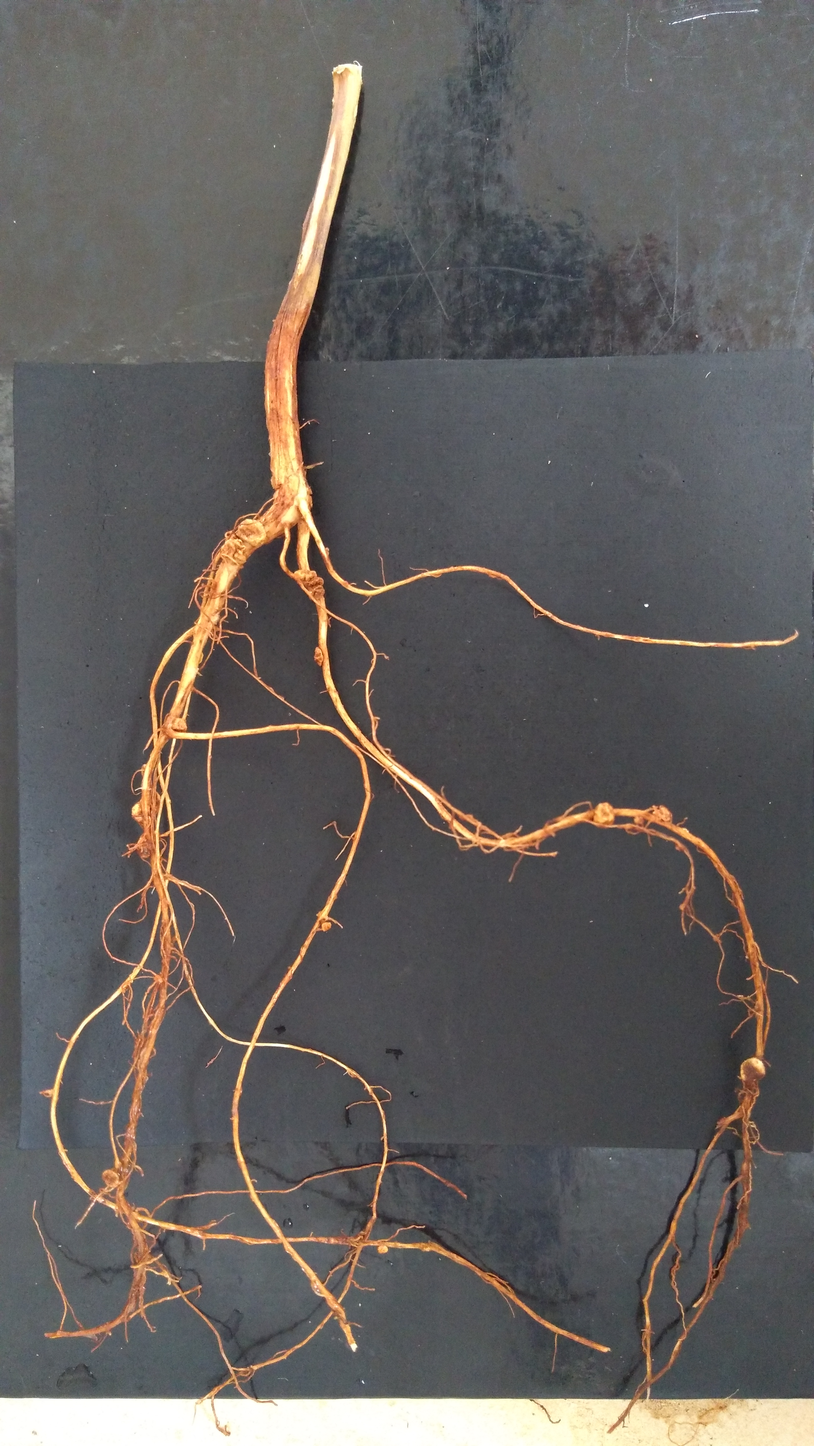nodule: (235, 518, 267, 546), (220, 538, 247, 565), (740, 1056, 766, 1082), (131, 801, 157, 826), (293, 479, 312, 508), (593, 802, 615, 825), (292, 569, 318, 588), (136, 832, 154, 859), (280, 505, 300, 528), (101, 1169, 119, 1188), (652, 805, 672, 822), (136, 1045, 149, 1071), (307, 584, 325, 601), (149, 790, 161, 814), (171, 718, 187, 734), (313, 646, 323, 667), (308, 576, 325, 587), (224, 530, 238, 543), (140, 764, 152, 777), (270, 475, 280, 490), (316, 910, 328, 922), (272, 490, 281, 505), (209, 613, 220, 624), (321, 921, 331, 932), (633, 815, 645, 824), (377, 1245, 388, 1254), (152, 975, 162, 984), (42, 1089, 52, 1098), (114, 1159, 122, 1169), (324, 547, 330, 557), (198, 652, 203, 664), (343, 581, 349, 588), (200, 583, 205, 588), (679, 904, 684, 909)
